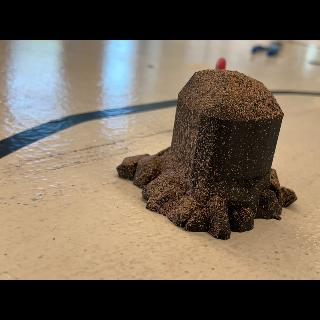teletubby: (215, 58, 226, 69)
